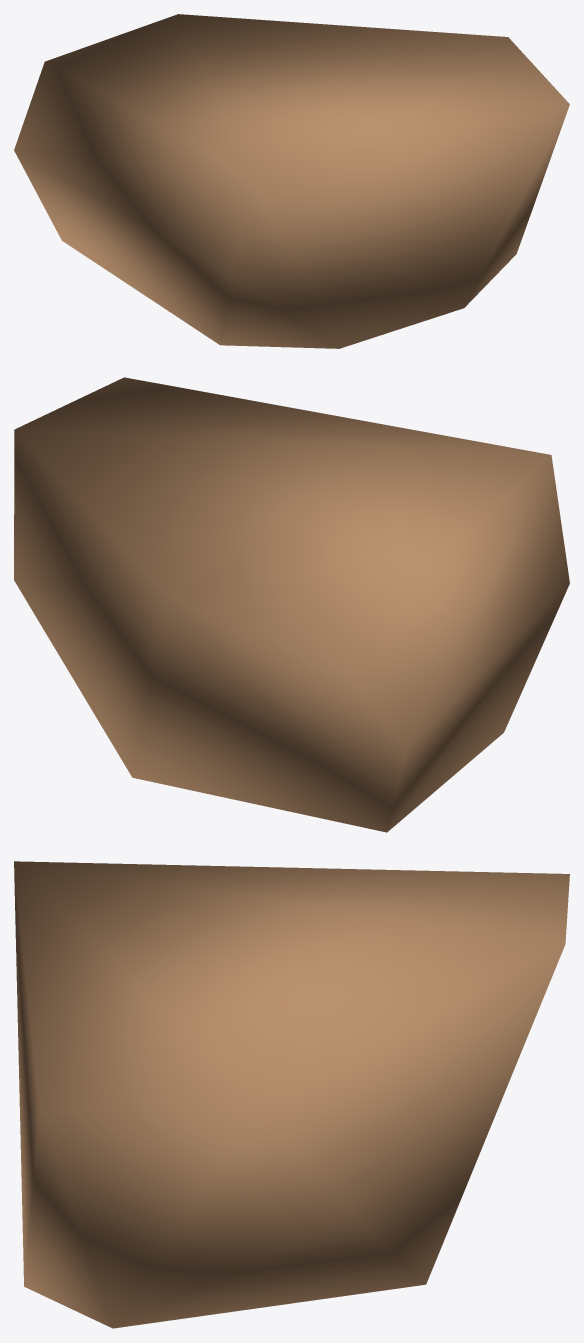
Rendered from MSH_Rock_Single_32.FBX.
3 views of the same model, one above another, from view 1: azimuth 30°, elevation 25°; view 2: azimuth 150°, elevation 25°; view 3: azimuth 270°, elevation 25° (orthographic). The views are drawn at different scales.
Parts seen in each view (by area): view 1: MESH_ROCK_08; view 2: MESH_ROCK_08; view 3: MESH_ROCK_08.
Part boxes in pixels (bbox=[...]): MESH_ROCK_08: bbox=[14, 14, 569, 348]; MESH_ROCK_08: bbox=[14, 377, 569, 832]; MESH_ROCK_08: bbox=[14, 861, 569, 1328].
Size of the model in its own units: 10.01 by 4.79 by 8.19.
